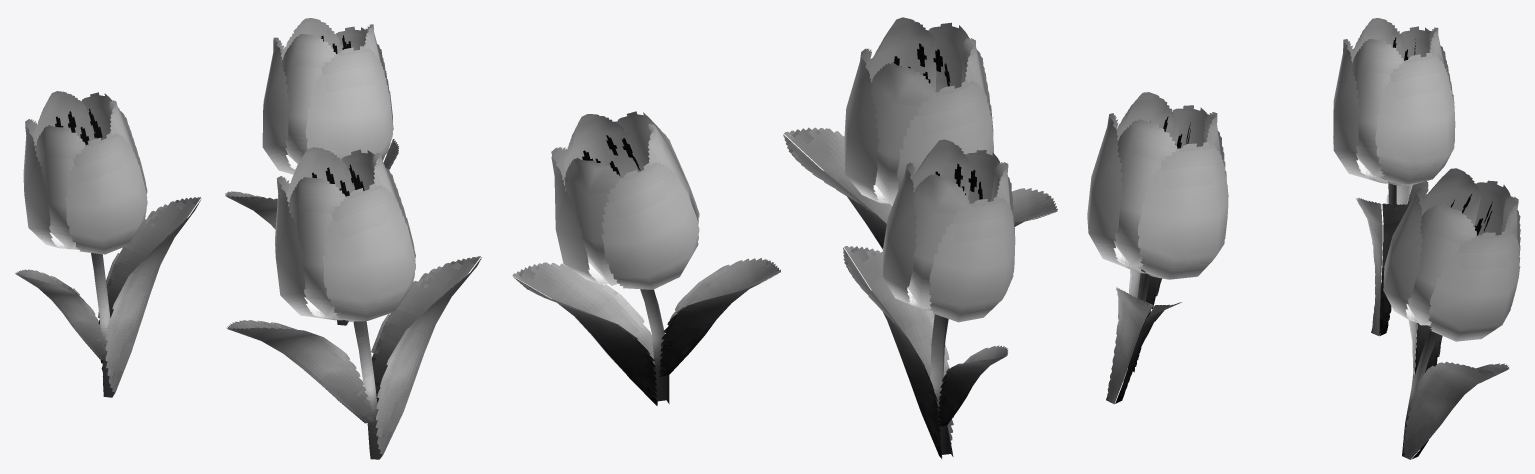
Rendered from flower-tulip.glb.
3 renders of one model, left to right at view 1: azimuth 30°, elevation 25°; view 2: azimuth 150°, elevation 25°; view 3: azimuth 270°, elevation 25°, orthographic. The views are drawn at different scales.
Bounding box in the file's own units: 9.86 × 6.64 × 8.68.
2 materials, 2 textured.
